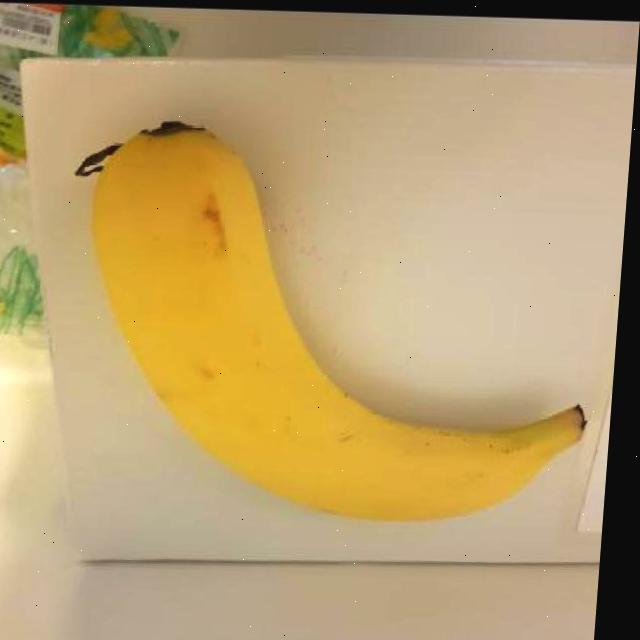banana: (51, 111, 614, 532)
